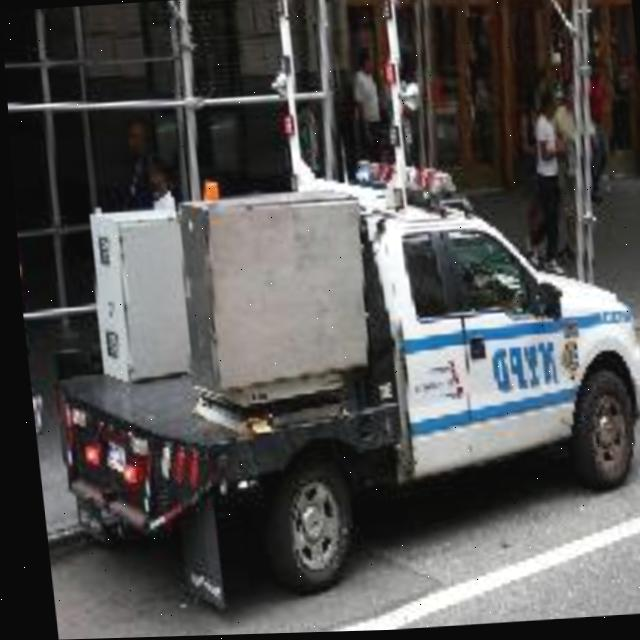emergency: (52, 152, 640, 590)
